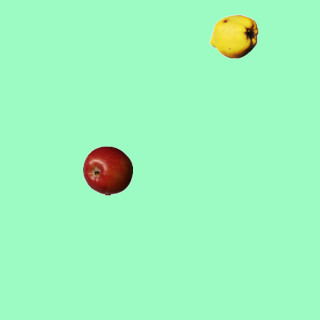Apple Braeburn: (82, 145, 132, 195)
Quince: (208, 11, 258, 61)
